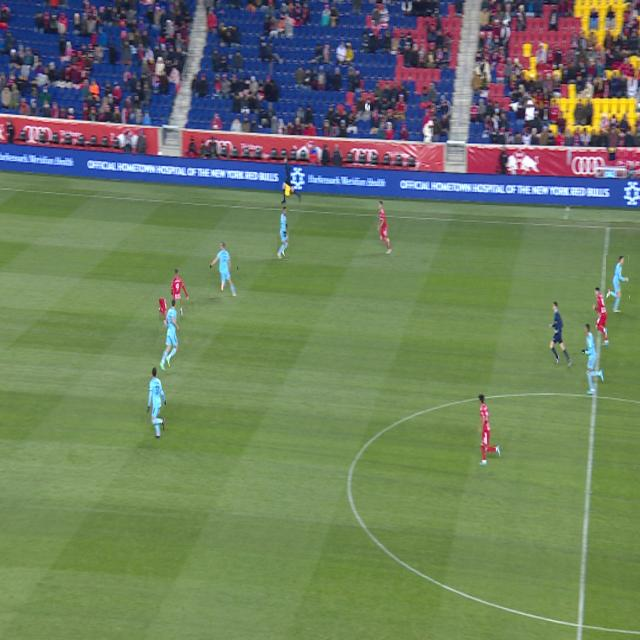football: (366, 104, 369, 112)
player: (478, 394, 501, 466), (582, 323, 604, 394), (159, 300, 180, 372), (210, 242, 237, 297), (147, 367, 166, 438), (607, 256, 629, 312), (171, 268, 189, 328), (592, 288, 609, 346), (377, 201, 392, 254), (277, 208, 289, 259)
referee: (549, 302, 572, 367)
